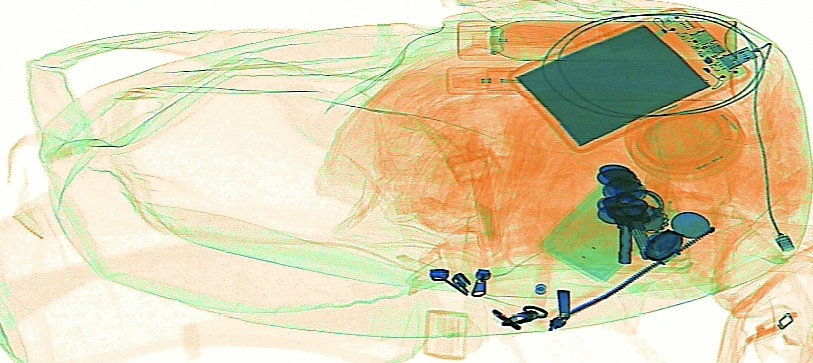pressure: (451, 14, 747, 64)
